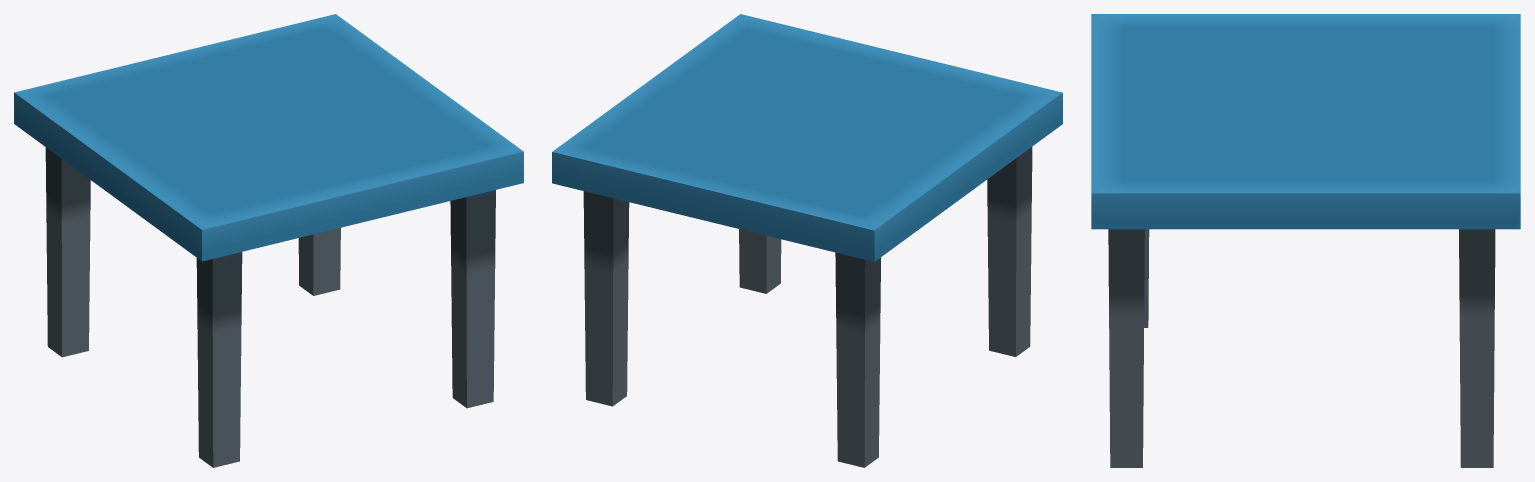
File: TableSmall.obj
The picture shows the model from 3 angles, left to right: view 1: azimuth 30°, elevation 25°; view 2: azimuth 150°, elevation 25°; view 3: azimuth 270°, elevation 25°; orthographic projection. The views are drawn at different scales.
Visible parts, largest first — view 1: TableSmall.001; view 2: TableSmall.001; view 3: TableSmall.001.
Part boxes in pixels (x1=…): TableSmall.001: x1=14, y1=14, x2=523, y2=467; TableSmall.001: x1=552, y1=14, x2=1062, y2=467; TableSmall.001: x1=1091, y1=14, x2=1520, y2=467.
Bounding box in the file's own units: 1.02 × 0.761 × 1.03.
